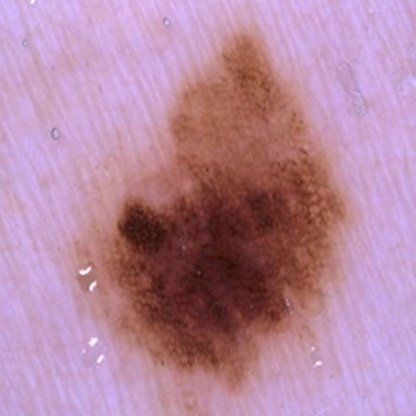malignant: (120, 72, 318, 345)
